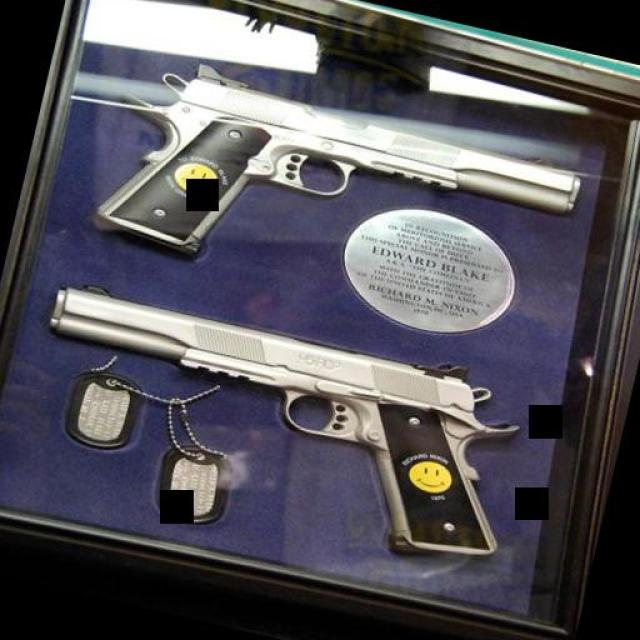gun: (2, 270, 544, 578), (68, 39, 590, 341)
